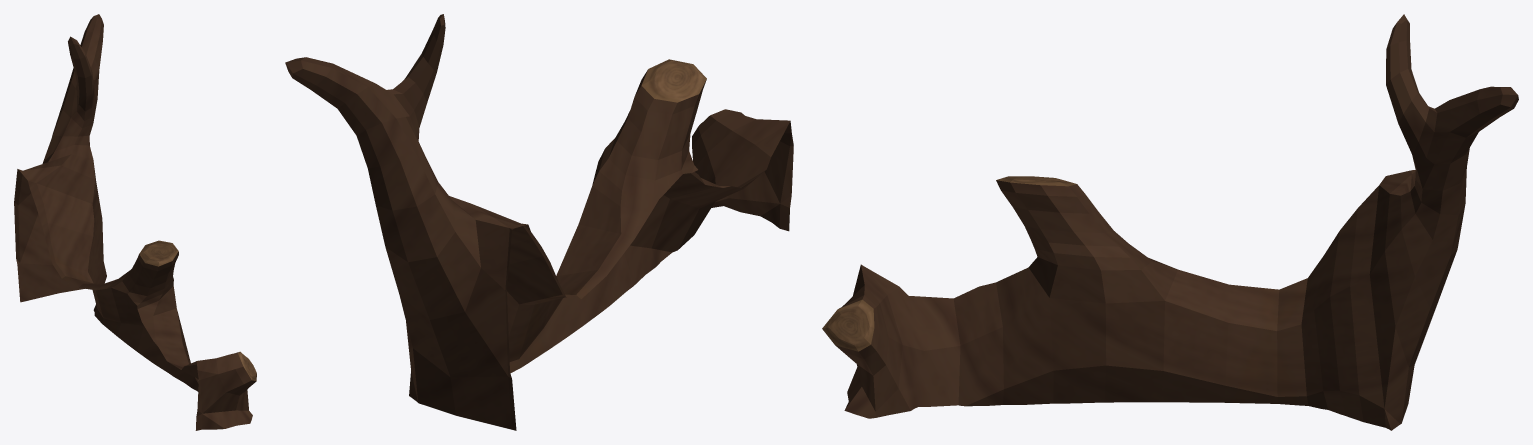
Rendered from F_Tree_Walk_1_front.fbx.
3 views of the same model, side by side, from view 1: azimuth 30°, elevation 25°; view 2: azimuth 150°, elevation 25°; view 3: azimuth 270°, elevation 25° (orthographic). The views are drawn at different scales.
Visible parts, largest first — view 1: F_Tree_Walk_1_front; view 2: F_Tree_Walk_1_front; view 3: F_Tree_Walk_1_front.
Part boxes in pixels (x1,y1,x2,y2): F_Tree_Walk_1_front: (14, 14, 256, 430); F_Tree_Walk_1_front: (285, 14, 793, 430); F_Tree_Walk_1_front: (822, 14, 1518, 430).
Bounding box in the file's own units: 10.45 × 6.57 × 3.08.
Materials: 1 (1 with a texture image).
